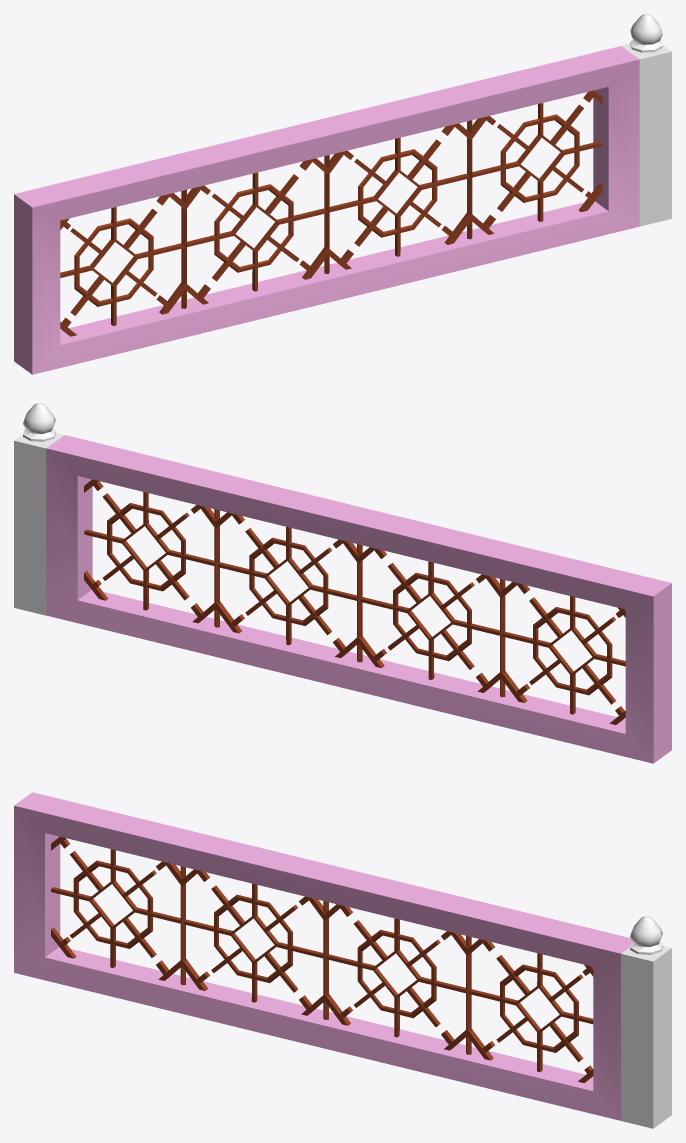
Rendered from grade.fbx.
The picture shows the model from 3 angles, top to bottom: view 1: azimuth 30°, elevation 25°; view 2: azimuth 150°, elevation 25°; view 3: azimuth 330°, elevation 25°; orthographic projection.
Parts seen in each view (by area): view 1: polySurface41; view 2: polySurface41; view 3: polySurface41.
Part boxes in pixels (box(x1,y1,x2,y2)): polySurface41: box(14, 14, 671, 374); polySurface41: box(14, 403, 671, 763); polySurface41: box(14, 792, 671, 1128).
Size of the model in its own units: 500 by 151 by 25.27.
